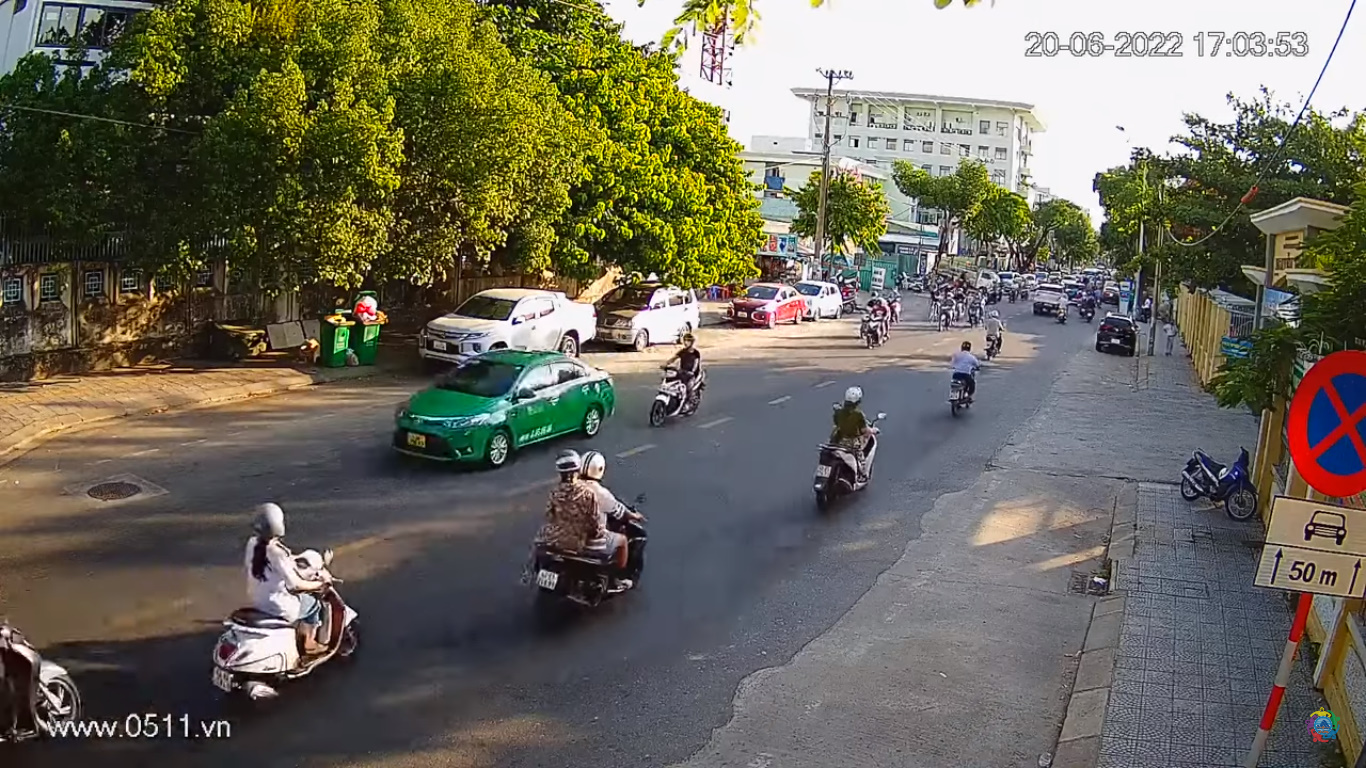car: (394, 344, 619, 469)
